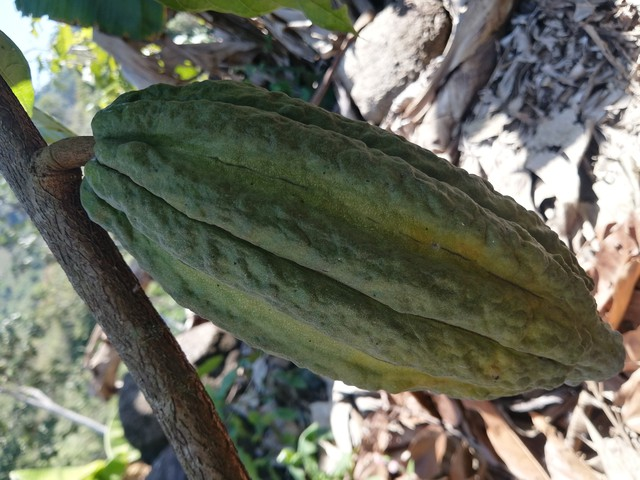Health: (75, 62, 635, 405)
